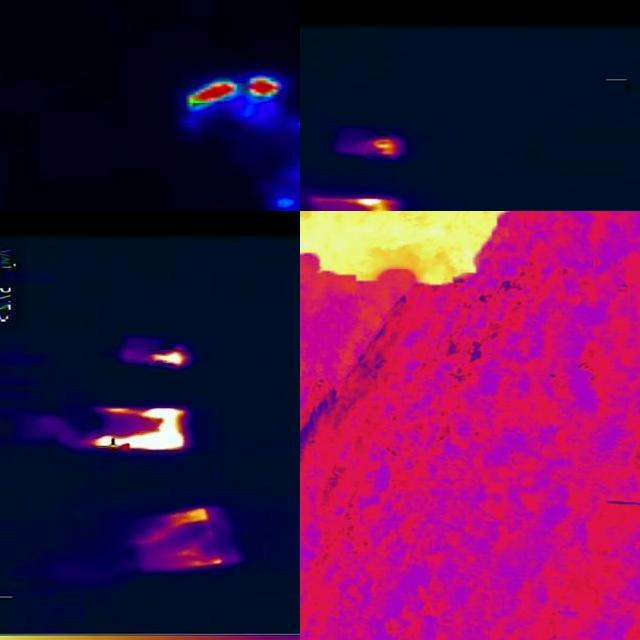fire: (301, 212, 512, 289), (86, 408, 190, 455), (177, 75, 289, 109), (311, 197, 401, 212), (367, 137, 404, 160), (149, 351, 190, 367)
